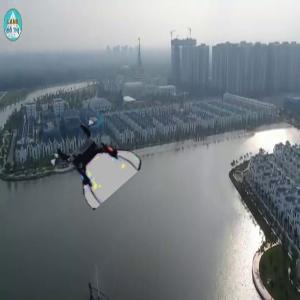drone: (55, 123, 132, 200)
